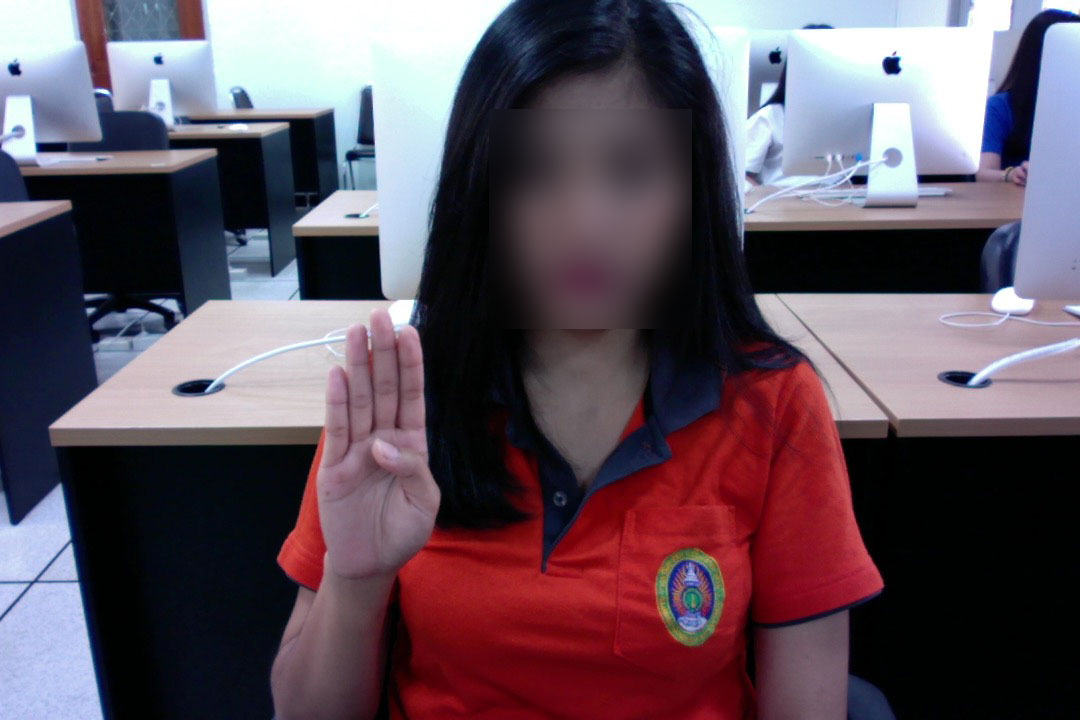bor: (314, 306, 449, 592)
